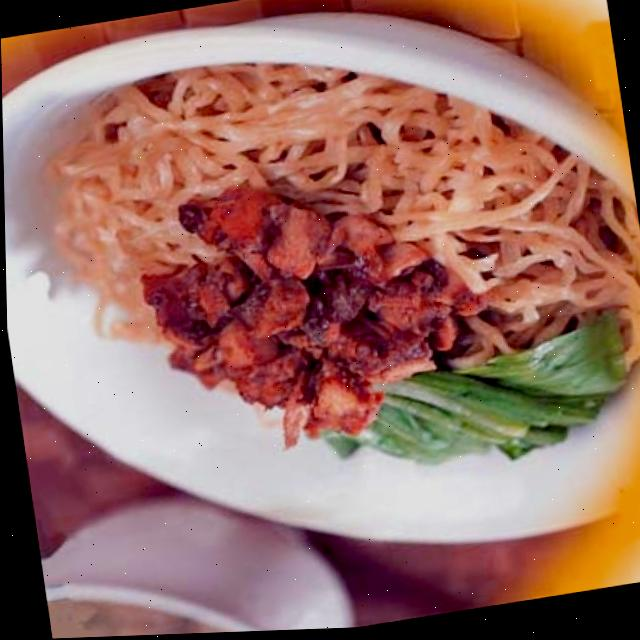面条主食: (0, 0, 640, 619)
